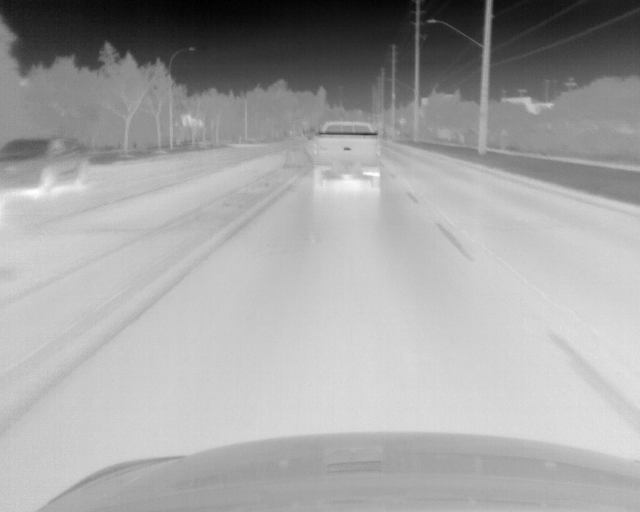car: (3, 135, 90, 191), (312, 120, 381, 187)
